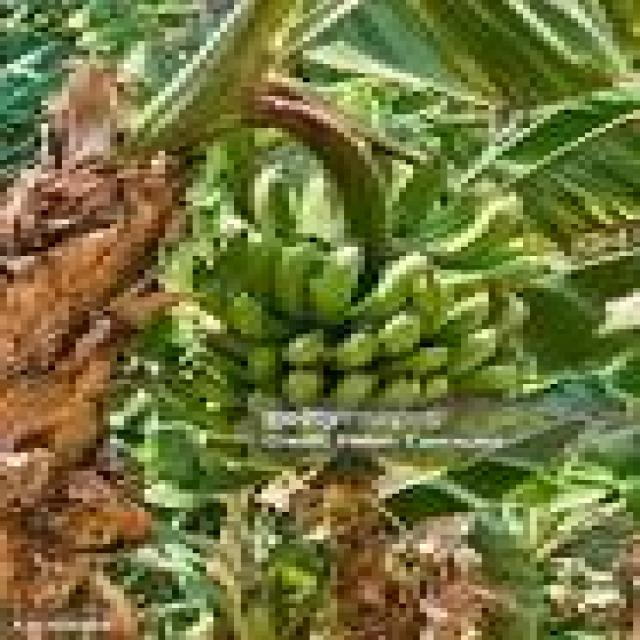banana: (434, 192, 523, 260), (351, 252, 426, 319), (310, 247, 364, 324), (276, 243, 323, 319), (228, 293, 289, 342), (255, 165, 295, 237), (413, 270, 454, 333), (448, 330, 502, 374), (441, 293, 488, 342), (455, 362, 523, 393), (331, 330, 378, 370), (331, 371, 378, 411), (379, 311, 419, 356), (248, 343, 282, 393), (283, 330, 330, 365), (386, 348, 447, 374), (496, 293, 529, 338), (379, 375, 419, 411), (283, 371, 323, 406), (420, 375, 454, 406)
